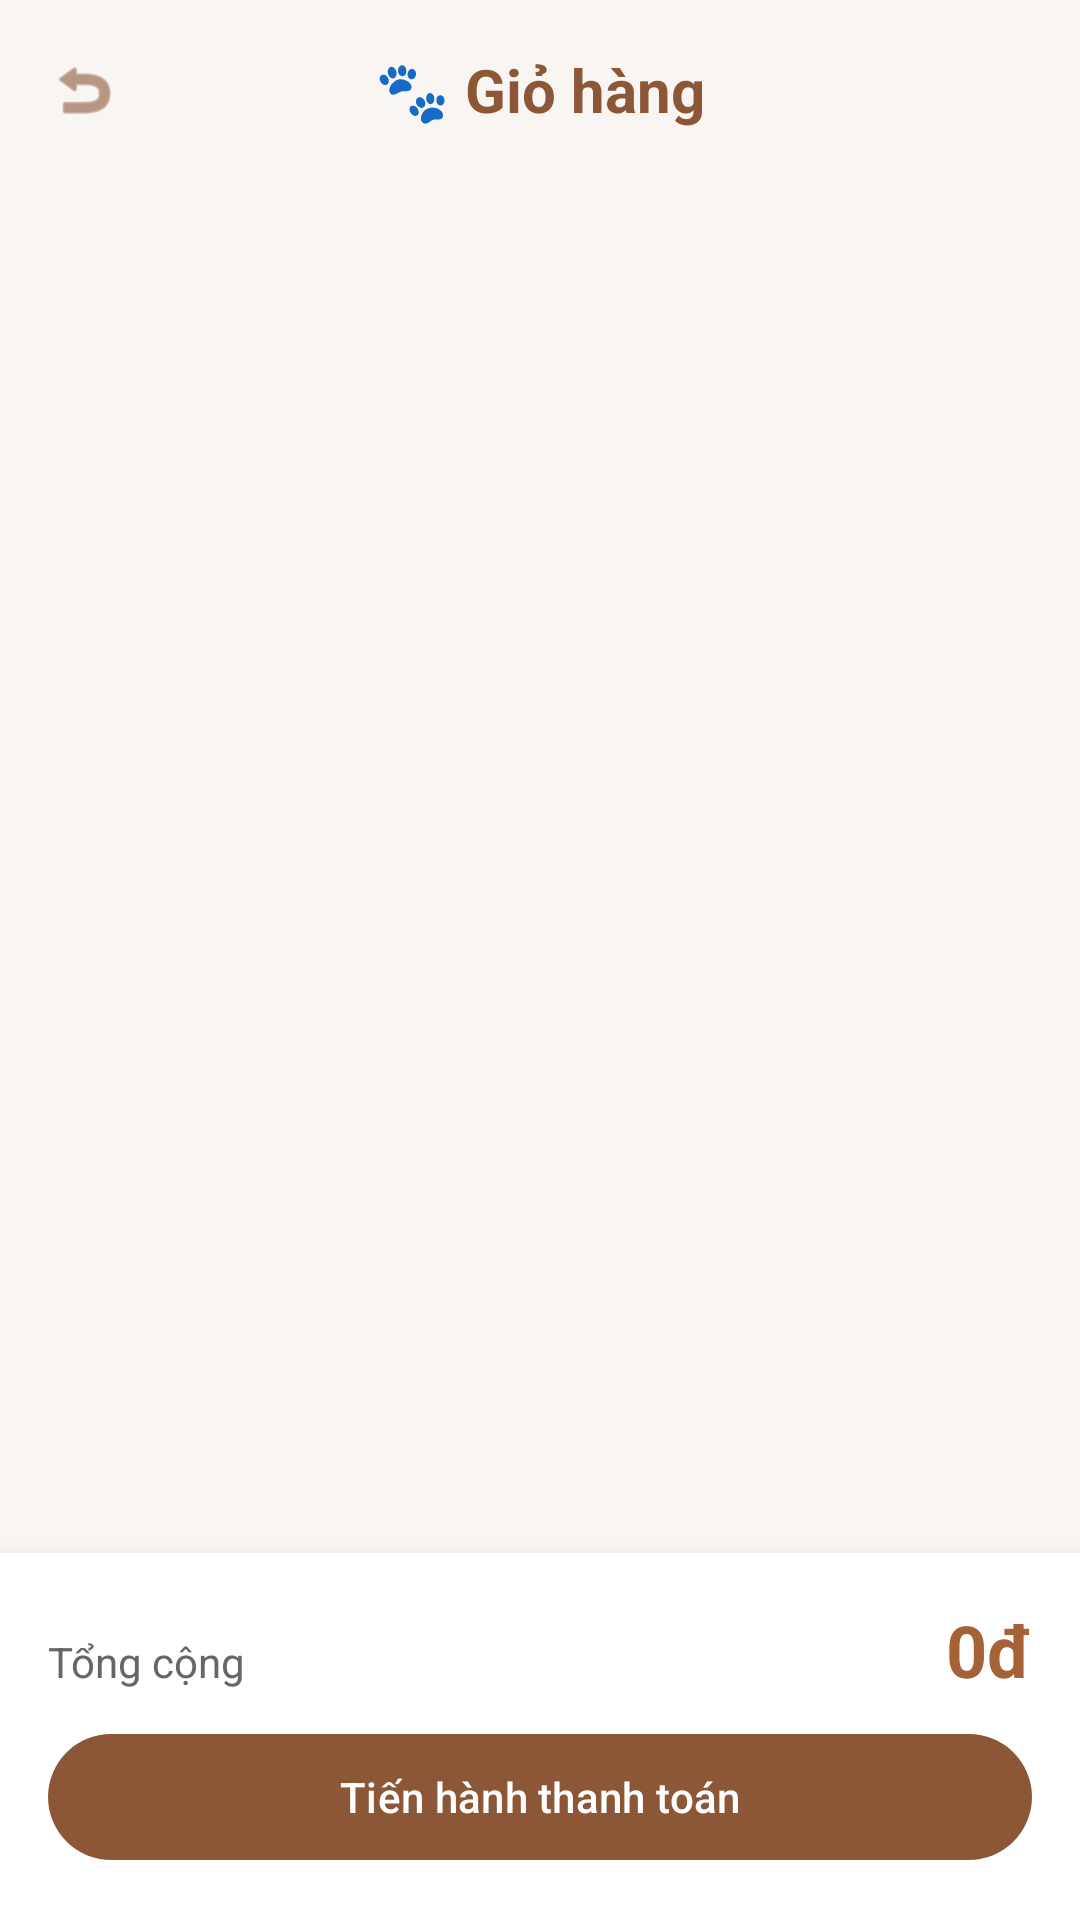

Named icons in this screenshot (1080w x 1920h) and their bounding boxes, (x1, y1, x2, y2):
revert: (59, 67, 111, 114)
